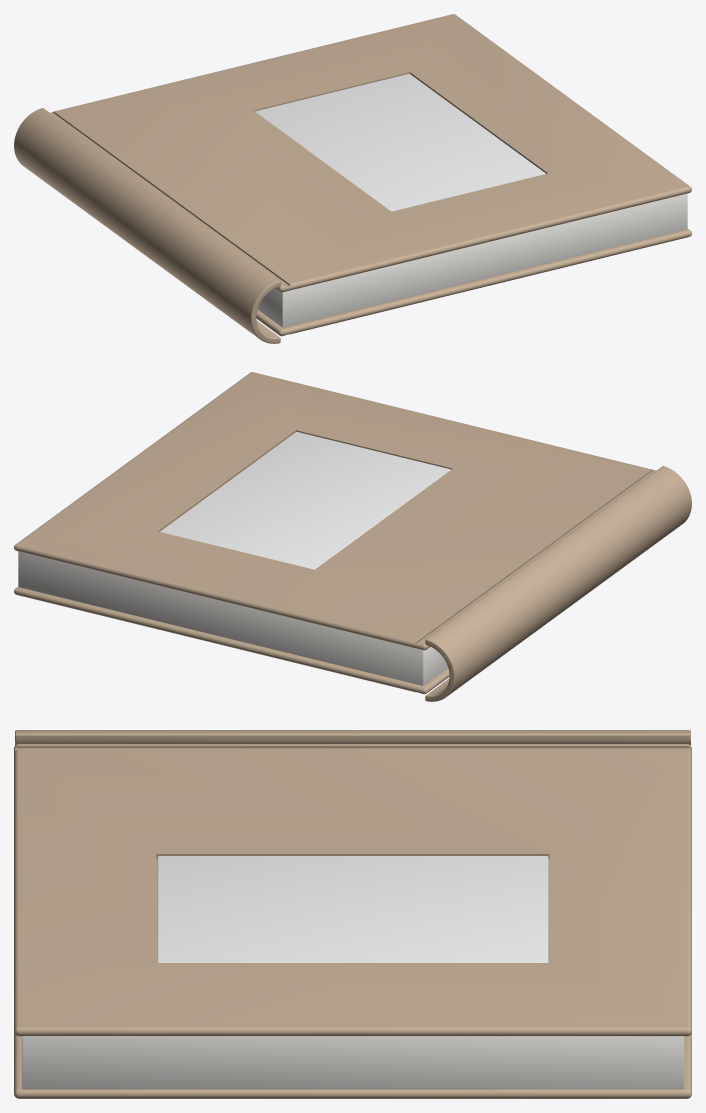
Rendered from photo-vertical--square.glb.
The picture shows the model from 3 angles, top to bottom: view 1: azimuth 30°, elevation 25°; view 2: azimuth 150°, elevation 25°; view 3: azimuth 270°, elevation 25°; orthographic projection. The views are drawn at different scales.
Parts seen in each view (by area): view 1: CoverFront, Photo, Spine, Pages, CoverBack; view 2: CoverFront, Photo, Spine, Pages, CoverBack; view 3: CoverFront, Photo, Pages, Spine, CoverBack.
Part boxes in pixels (x1,y1,x2,y2): CoverFront: (50,14,691,292); Photo: (255,73,545,211); Spine: (14,108,280,343); Pages: (258,193,687,327); CoverBack: (256,229,691,336); CoverFront: (14,372,655,650); Photo: (160,431,450,569); Spine: (425,466,691,701); Pages: (18,551,447,685); CoverBack: (14,587,449,694); CoverFront: (14,744,691,1036); Photo: (157,856,548,962); Pages: (22,1036,683,1089); Spine: (15,730,690,745); CoverBack: (14,1033,691,1098).
Size of the model in its own units: 0.3208 by 0.043 by 0.3.
